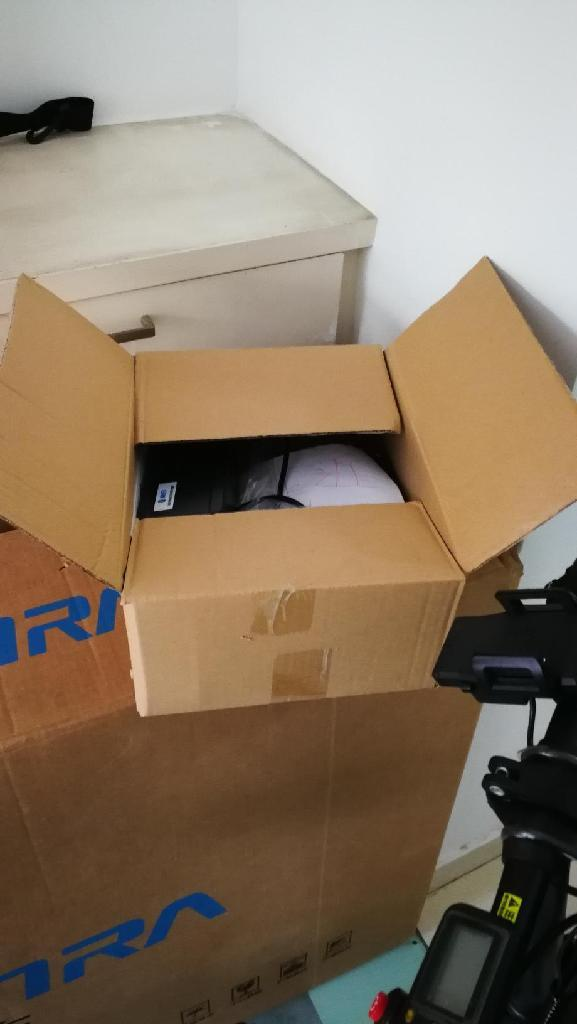cardboard: (0, 517, 477, 1023), (0, 115, 376, 349), (387, 258, 576, 571)
